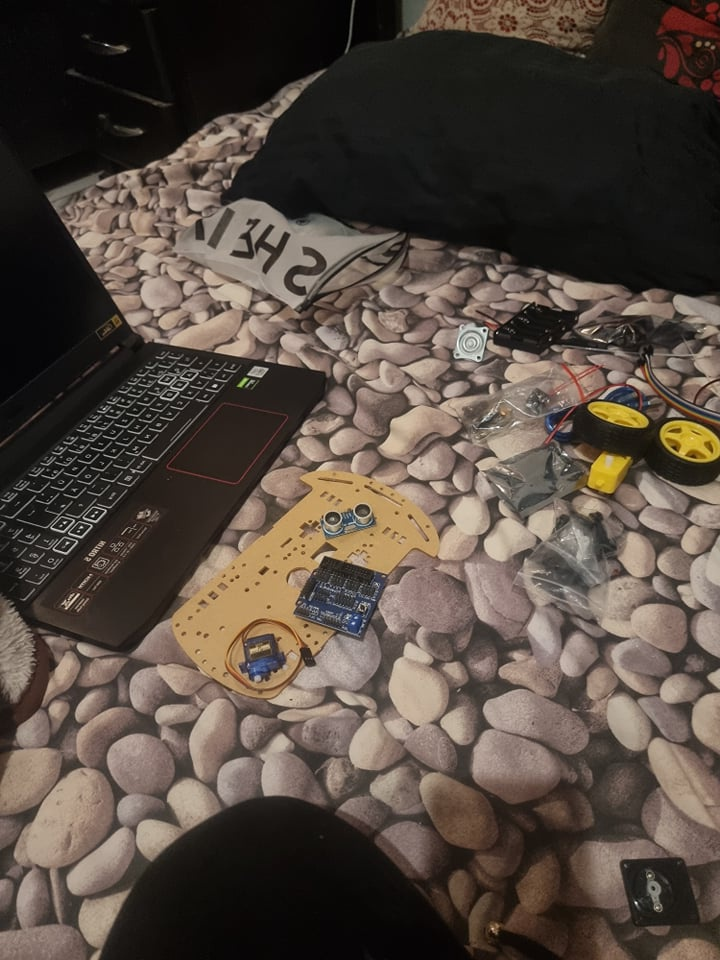5V EXPANSION: (293, 556, 390, 640)
BATTERY BOX: (493, 296, 574, 355)
SENSOR: (320, 501, 377, 537)
